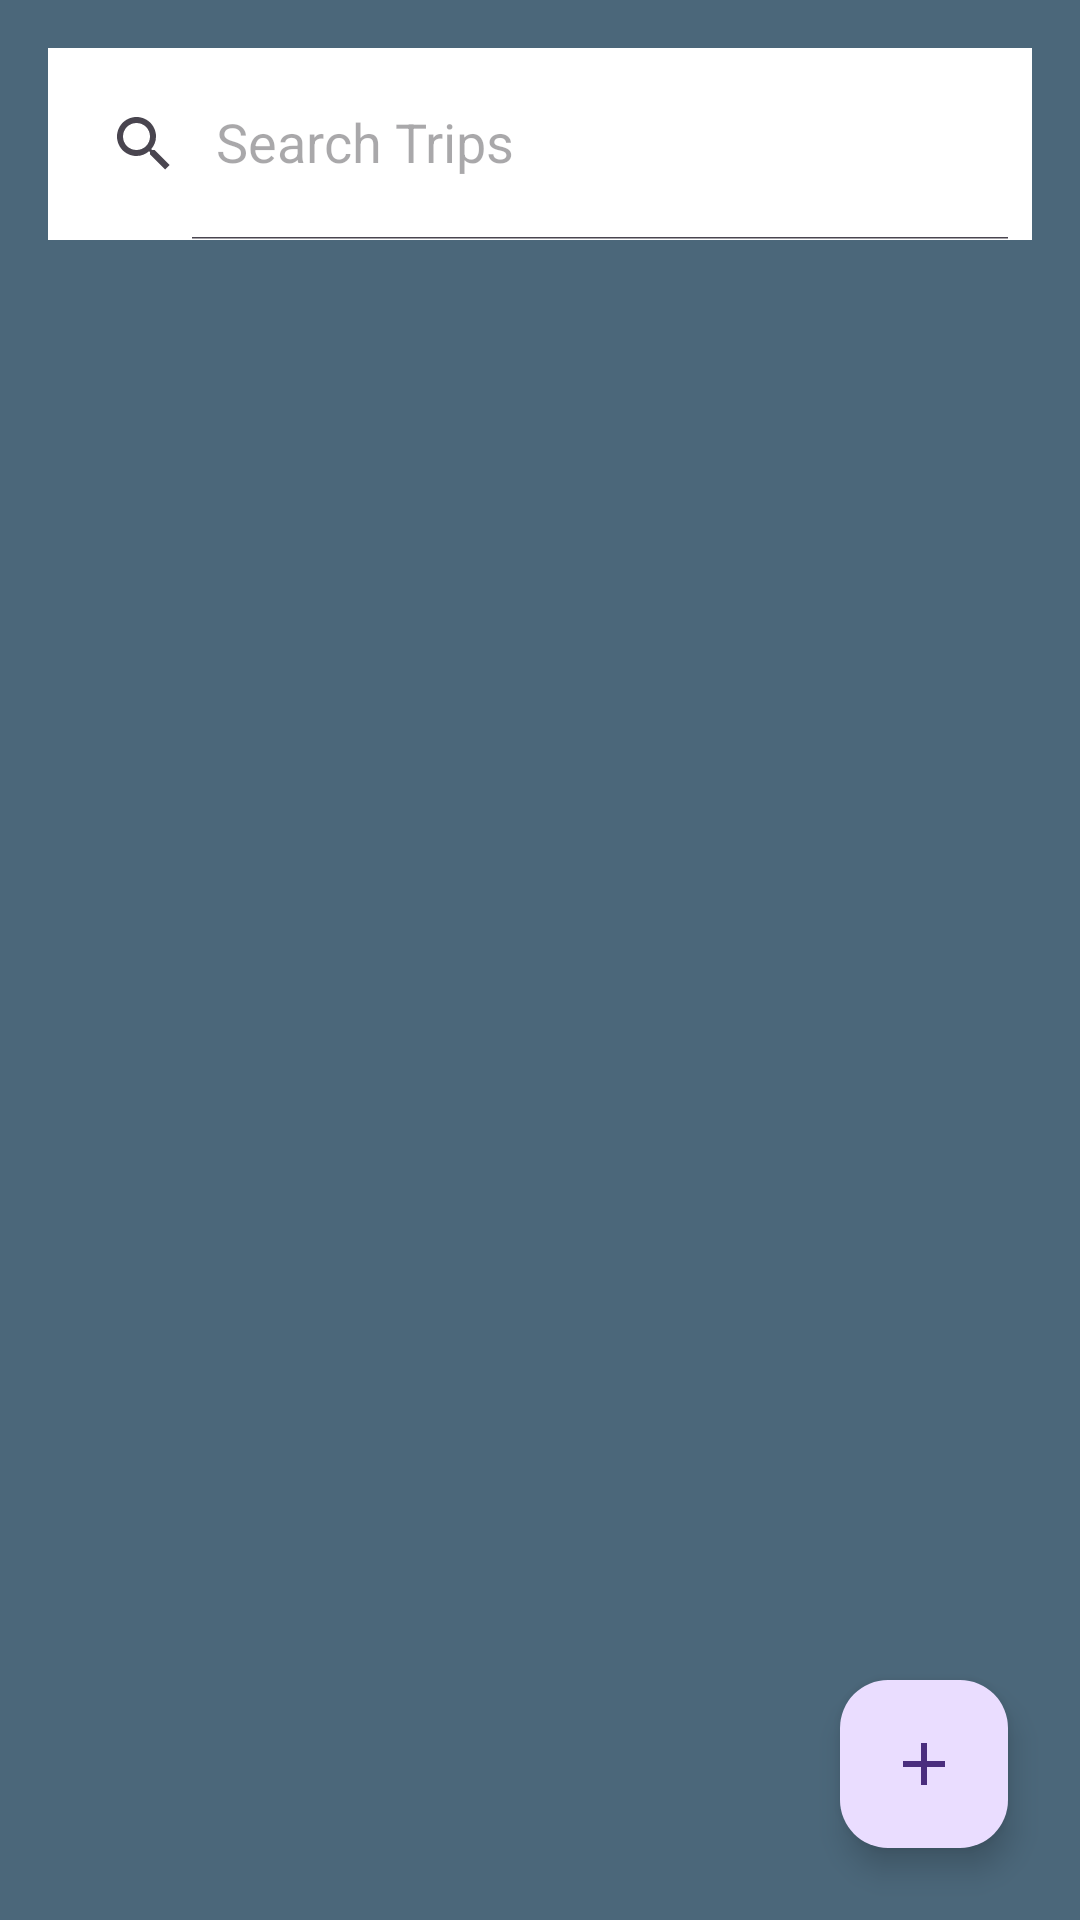

Icon bounding boxes for this 1080px x 1920px phone screenshot, format (x1, y1, x2, y2):
Add New: (840, 1680, 1008, 1848)
